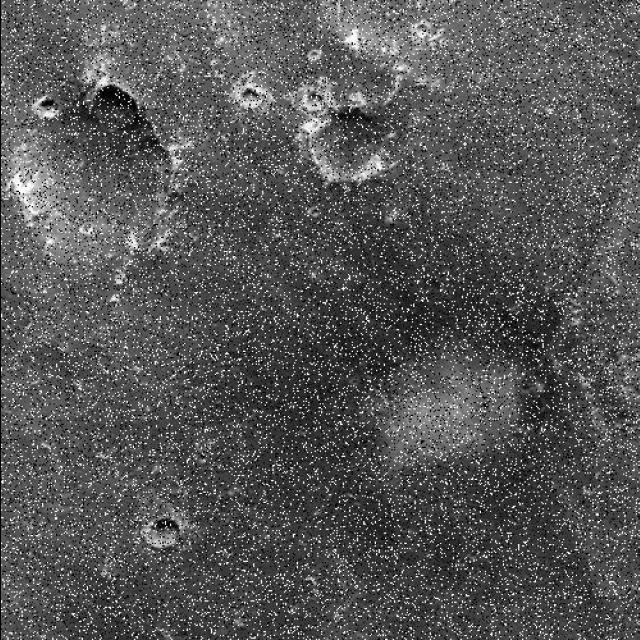crater: (0, 37, 204, 303), (494, 0, 640, 114), (290, 95, 400, 221), (130, 504, 184, 560), (354, 0, 400, 19), (628, 406, 640, 430), (478, 398, 492, 414)
